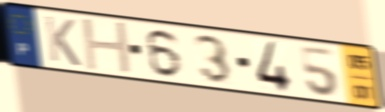3: (193, 33, 234, 85)
4: (254, 38, 294, 95)
5: (298, 43, 341, 99)
6: (144, 27, 185, 79)
H: (79, 17, 136, 76)
K: (42, 14, 83, 69)
